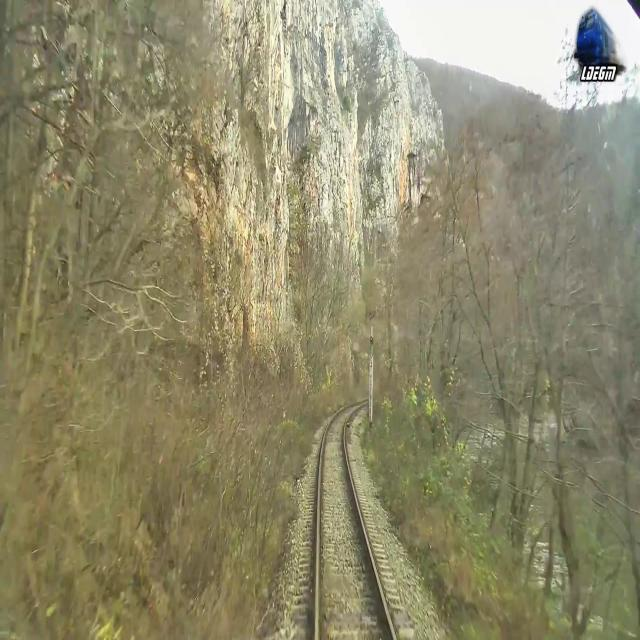rail-track: (319, 408, 391, 639)
